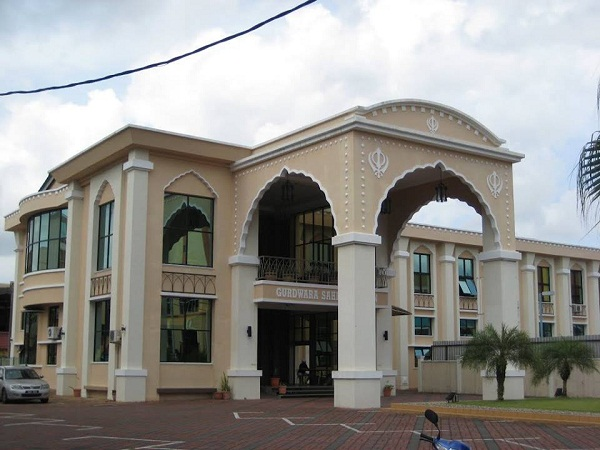Gurdwara: (14, 87, 525, 400)
